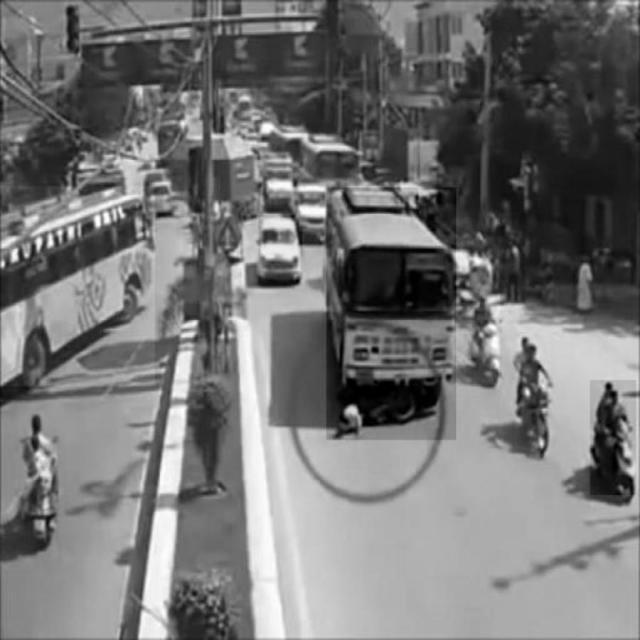accident: (326, 187, 456, 440)
vehicle: (1, 187, 155, 387), (590, 380, 636, 496), (515, 338, 551, 458), (259, 215, 303, 286), (474, 295, 500, 385)
